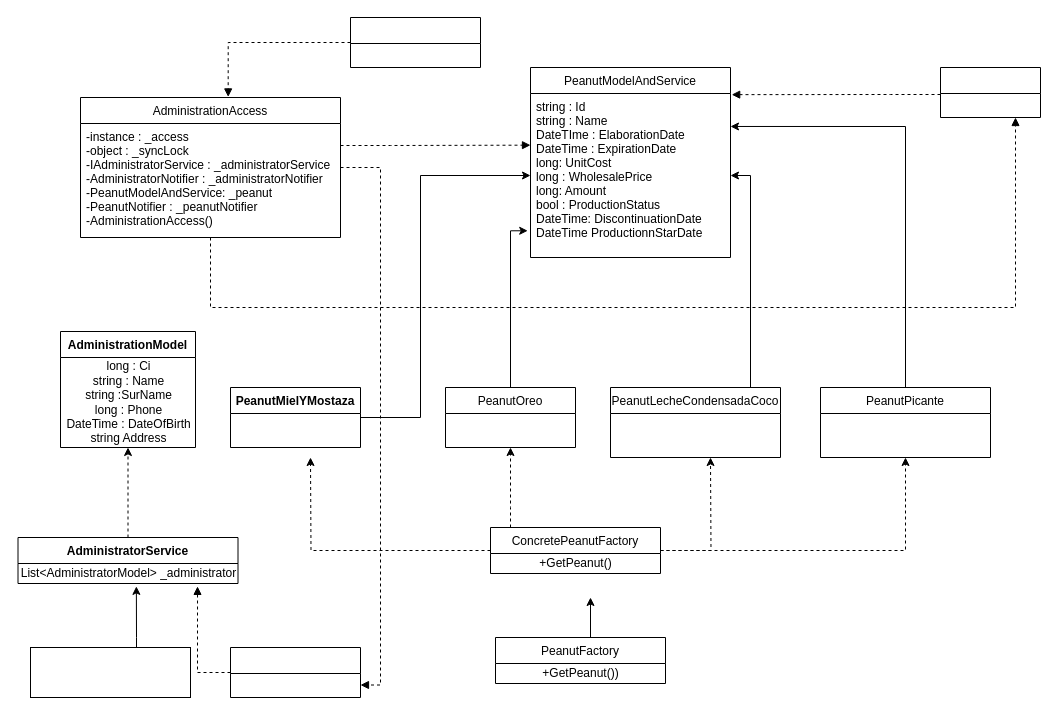
Some shapes in this 1058 by 715 pixel diagram are drawn without their labels. Here are the shapes that lost their labels. From the top down, the centre of each, then its label:
At [415,42]: "PrincipalMainNotifier".
At [990,92]: "PeanutNotifier".
At [110,672]: "IAdministratorService".
At [295,672]: "AdministratorNotifier".
